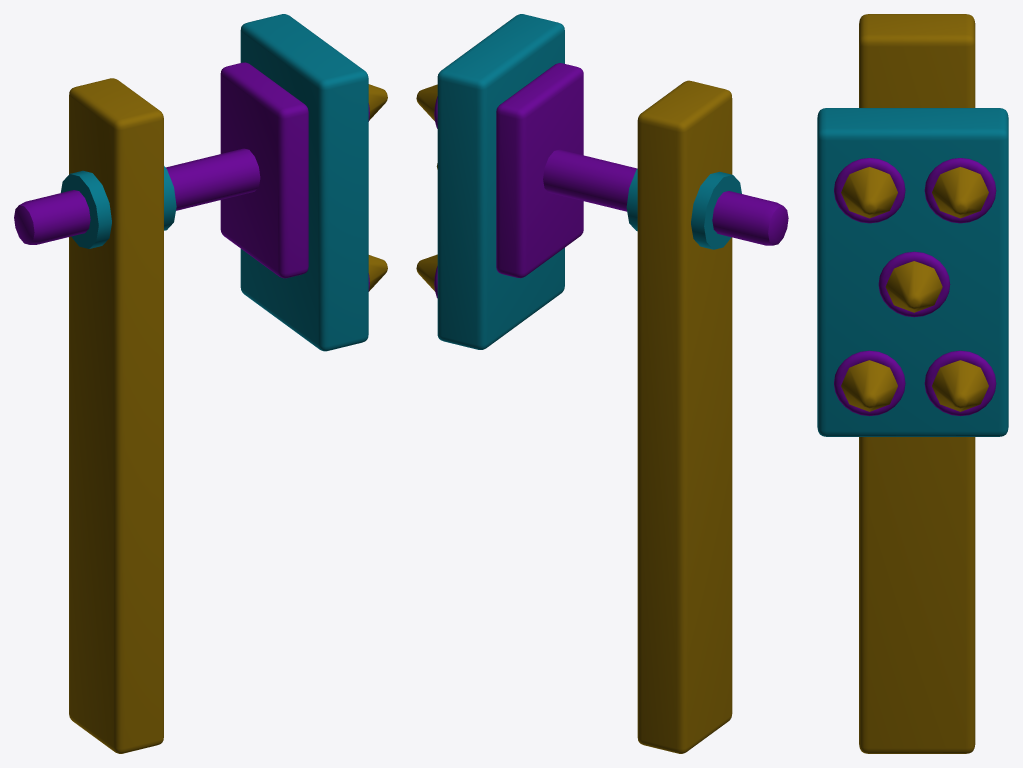
Rendered from obstacle_push.fbx.
The picture shows the model from 3 angles, left to right: view 1: azimuth 30°, elevation 25°; view 2: azimuth 150°, elevation 25°; view 3: azimuth 270°, elevation 25°; orthographic projection. The views are drawn at different scales.
Visible parts, largest first — view 1: Box027, Object639; view 2: Box027, Object639; view 3: Object639, Box027.
Boxes of the visible parts, bbox=[...] form: Box027: bbox=[60, 78, 176, 753]; Object639: bbox=[14, 14, 387, 351]; Box027: bbox=[626, 80, 741, 753]; Object639: bbox=[416, 14, 788, 349]; Object639: bbox=[817, 108, 1008, 436]; Box027: bbox=[859, 14, 975, 753].
Bounding box in the file's own units: 75.84 × 32.25 × 135.
